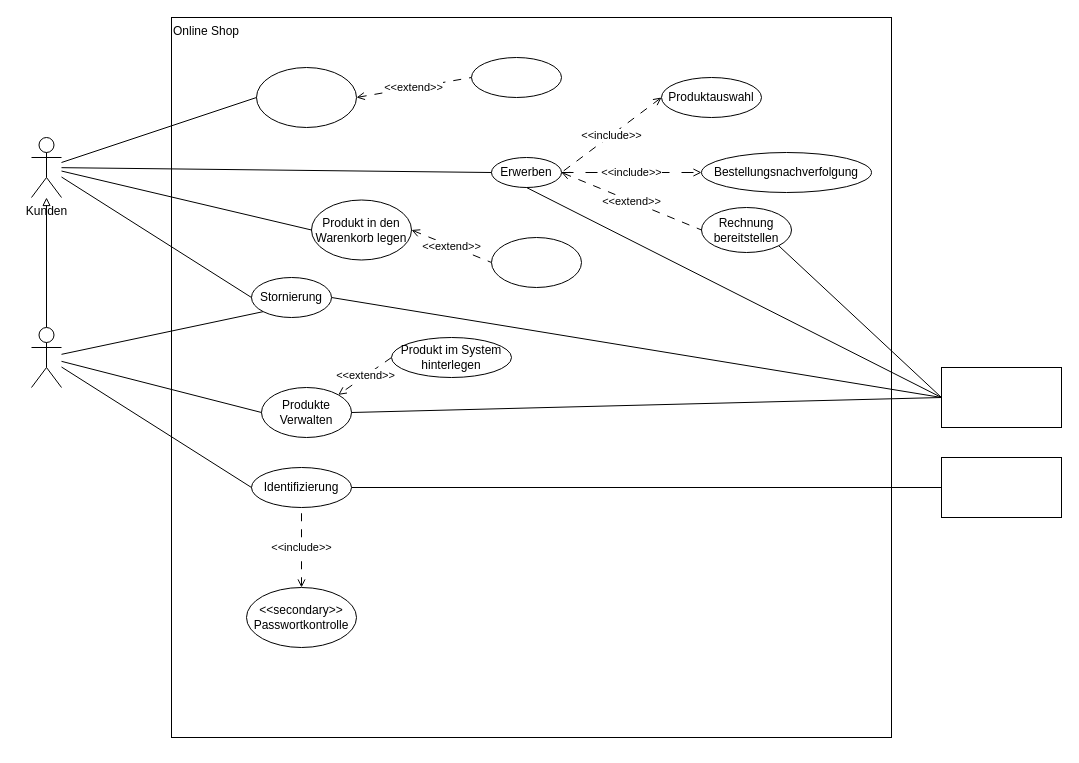
Some shapes in this 1079 by 763 pixel diagram are drawn without their labels. The box of each missing label's shape, as (x1, y1, x2, y2) in pixels:
<<actor>> OIDC-Provider (Gitlab/Shibboleth): (940, 456, 1062, 518)
<<actor>> Partnerfirma: (940, 366, 1062, 428)
Produkt über Kategorien wählen: (256, 66, 356, 128)
Produktanzahl verändern: (490, 236, 582, 288)
Produktsuche über Suchfeld: (470, 56, 562, 98)
Verwaltung: (30, 326, 62, 388)
